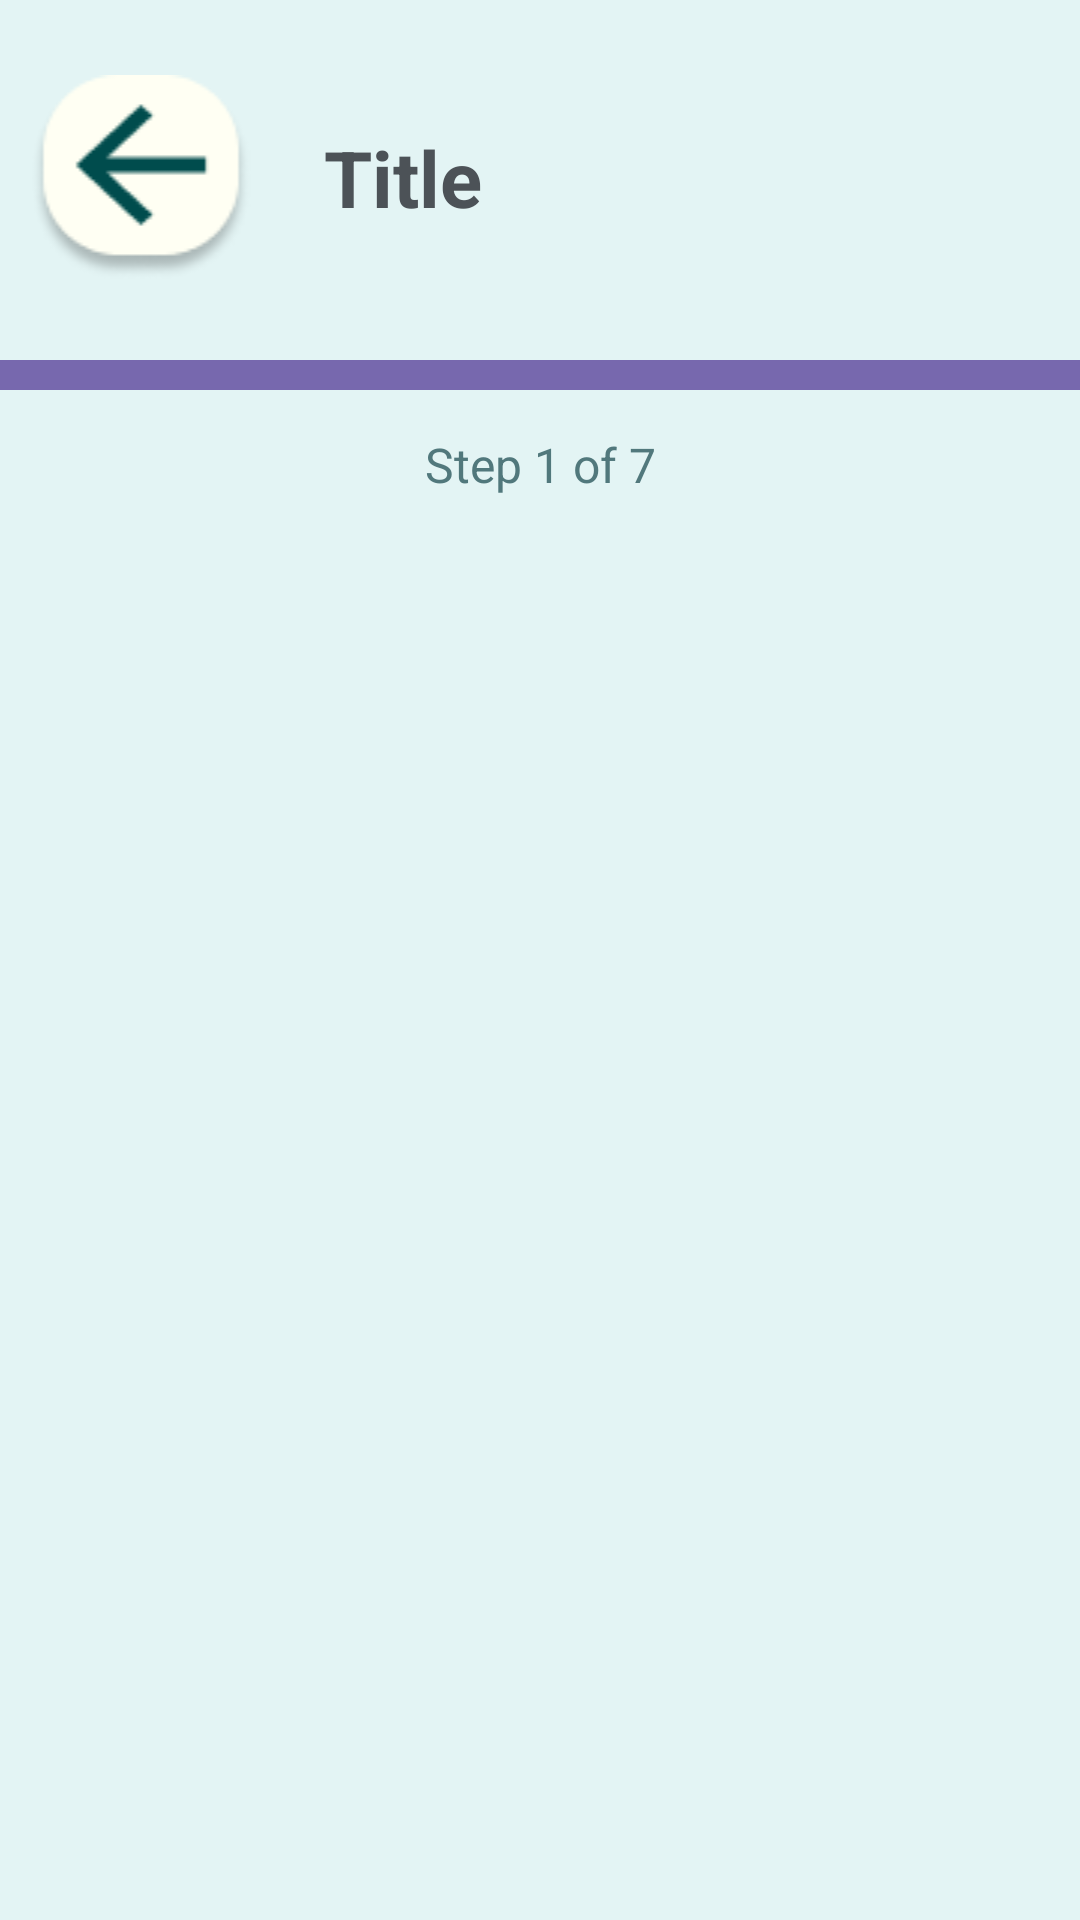

Icons on this 1080w x 1920h Android screen, each with its box as (x1, y1, x2, y2):
Back: (43, 75, 239, 268)
